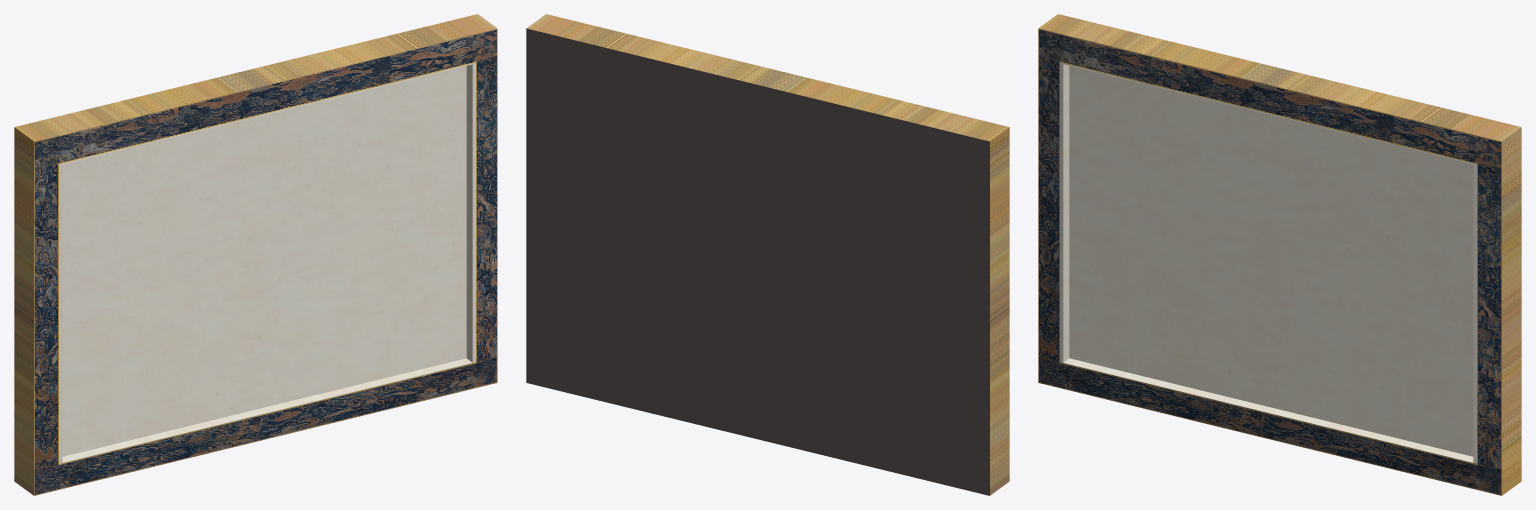
File: panel_scroll.glb
3 views of the same model, side by side, from view 1: azimuth 30°, elevation 25°; view 2: azimuth 150°, elevation 25°; view 3: azimuth 330°, elevation 25° (orthographic).
Visible parts, largest first — view 1: panel_scroll; view 2: panel_scroll; view 3: panel_scroll.
Boxes of the visible parts, x1,y1,x2,y2 form: panel_scroll: (14,14,497,495); panel_scroll: (526,14,1009,495); panel_scroll: (1038,14,1521,495).
Size of the model in its own units: 0.52 by 0.38 by 0.042.
Materials: 1 (1 with a texture image).
